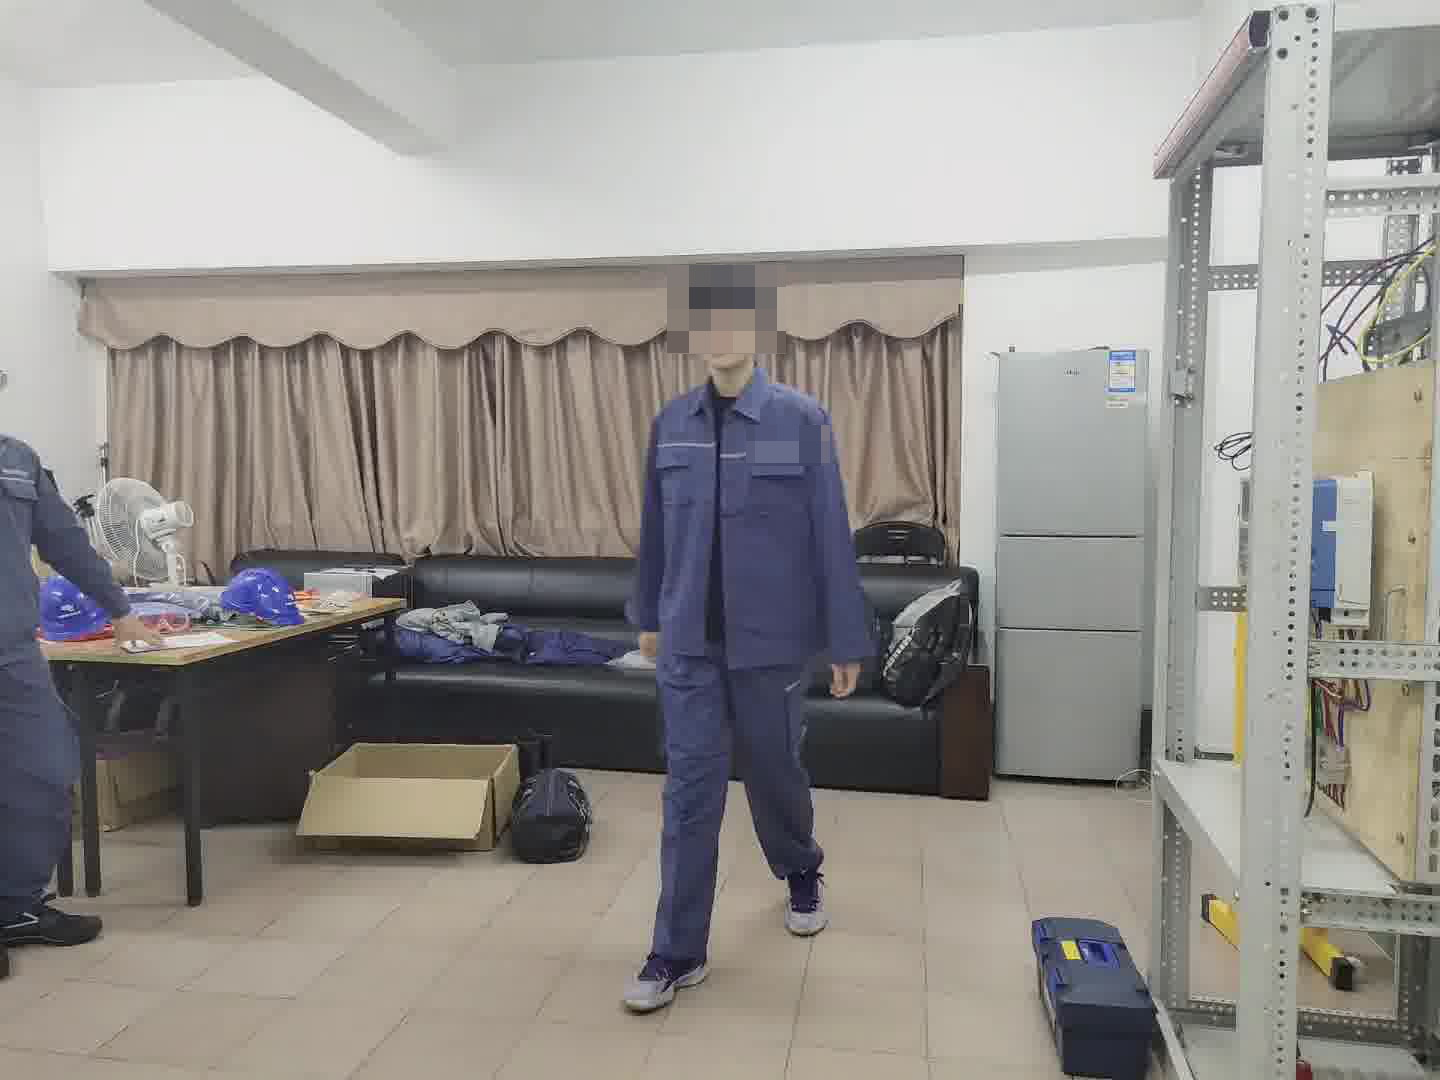downsuit: (645, 692, 828, 962), (1, 662, 79, 914)
hand: (110, 611, 166, 652), (829, 664, 863, 697), (634, 632, 659, 663)
noear: (747, 297, 770, 354)
person: (625, 263, 884, 990), (1, 434, 165, 985)
unhalt: (678, 265, 777, 368)
upsuit: (632, 377, 880, 670), (1, 435, 137, 647), (2, 436, 133, 649)
wrongsuit: (689, 404, 759, 661)
